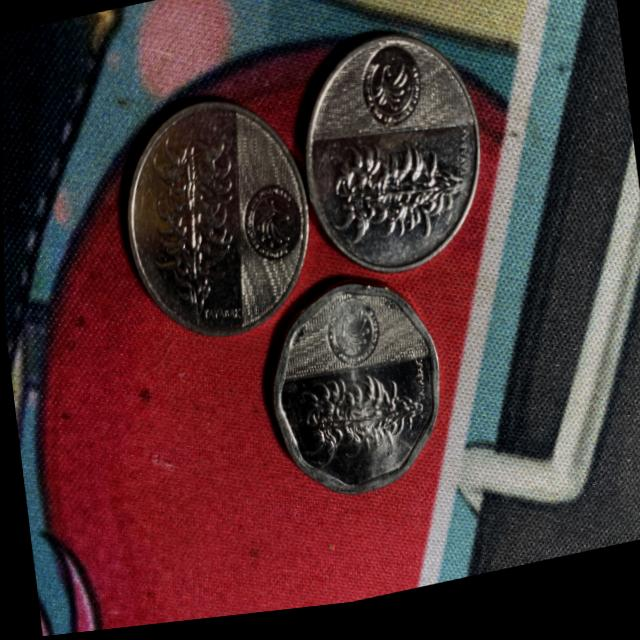5_New_Back: (142, 120, 239, 323), (324, 133, 463, 266), (294, 366, 424, 477)
